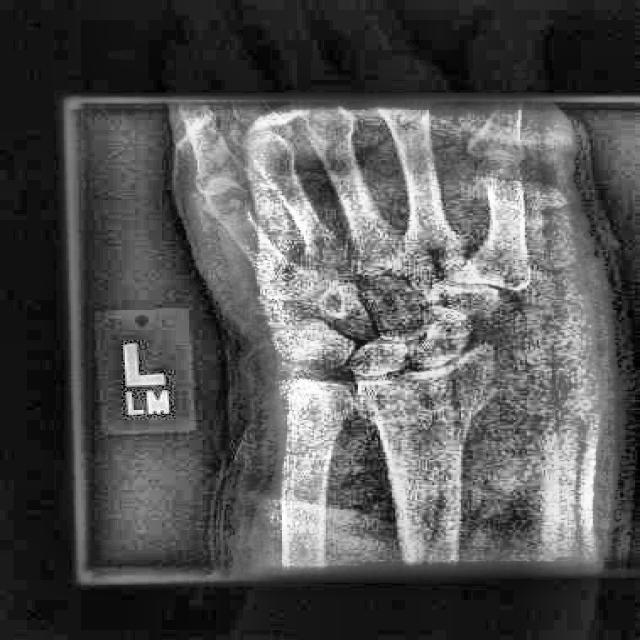fingers positive: (331, 356, 527, 453)
